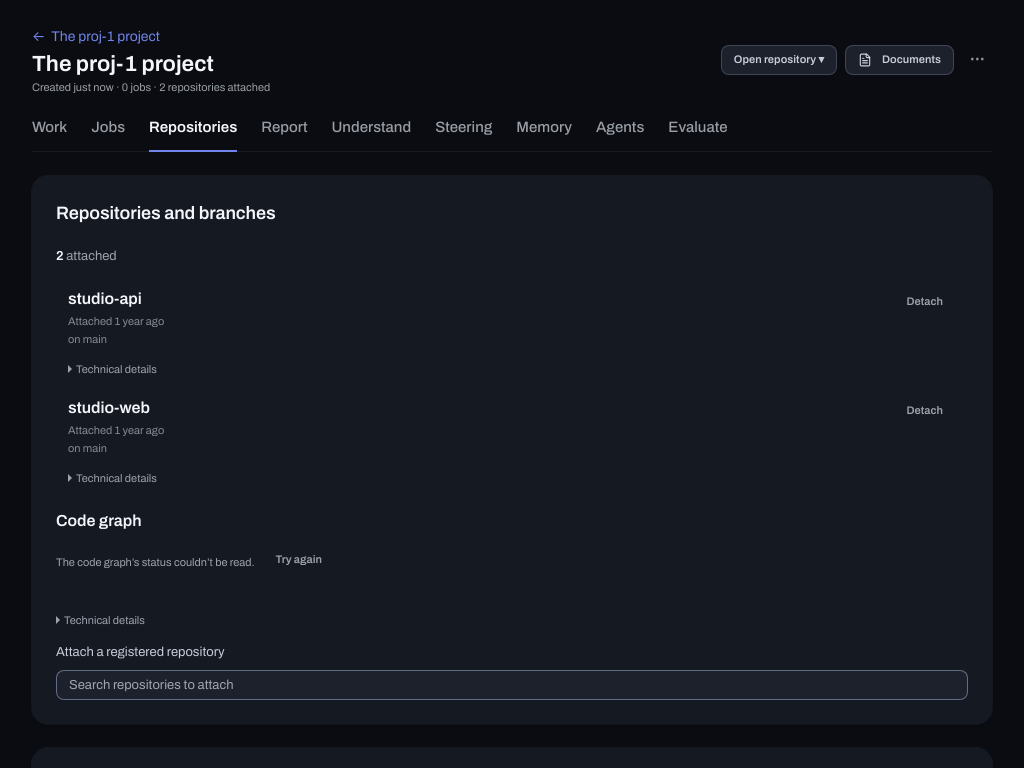
ProjectDesk — Repositories section (studio#207) › Detach asks first: Cancel leaves the member, Confirm DELETEs the member by id and drops the row
The width and height of the screenshot is (1024, 768).
Click the button with test id "project-repo-detach" in the row of "studio-api".
click(925, 302)  # box [894,287,956,317]
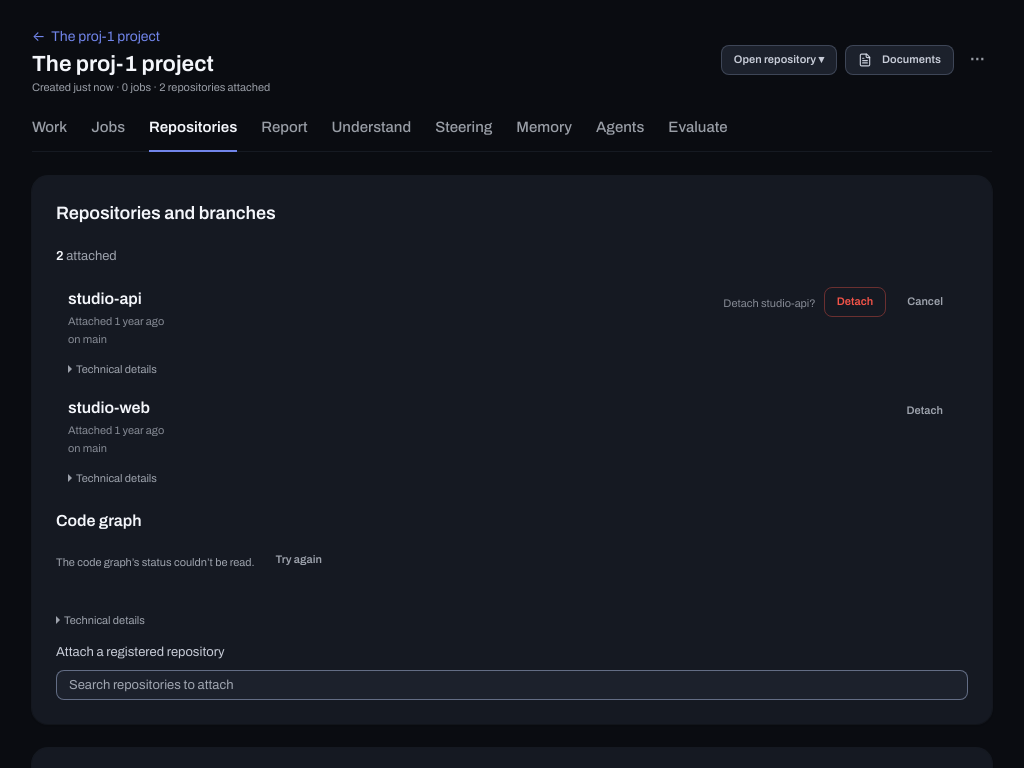
Click the button with test id "project-repo-detach-cancel".
click(925, 302)  # box [894,287,956,317]
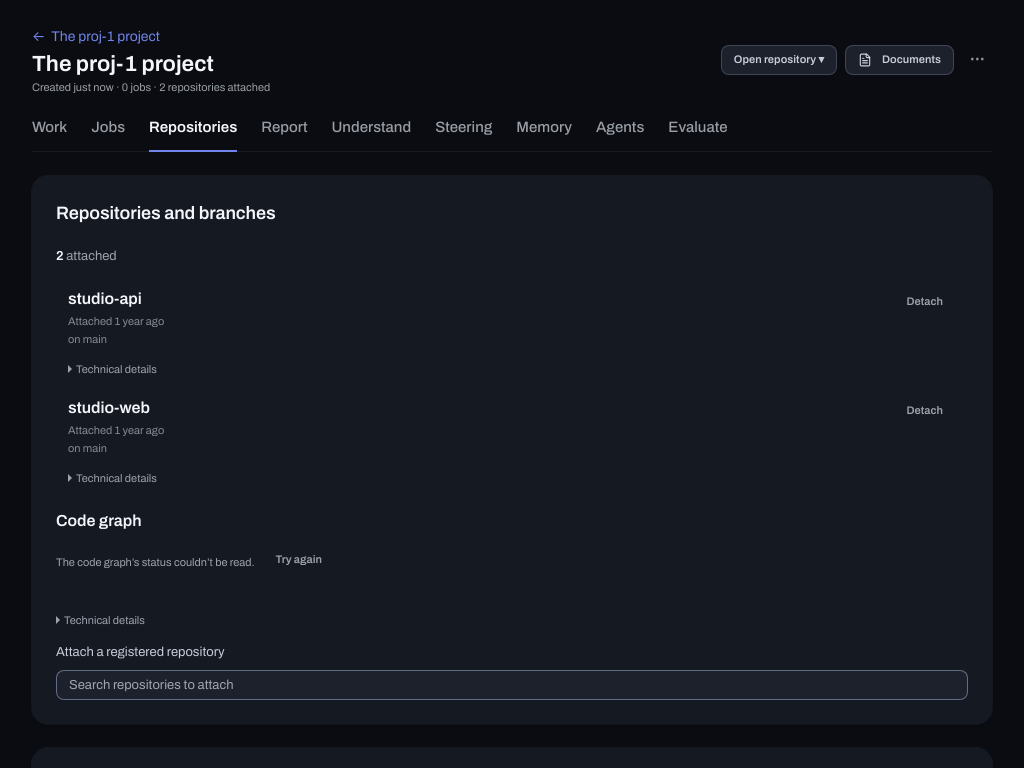
expect the number of elements with test id "project-repo-row" is 2: met, box [56,279,968,388]; [56,388,968,497]
expect the button with test id "project-repo-detach-confirm" is gone: met
Click the button with test id "project-repo-detach" in the row of "studio-api".
click(925, 302)  # box [894,287,956,317]
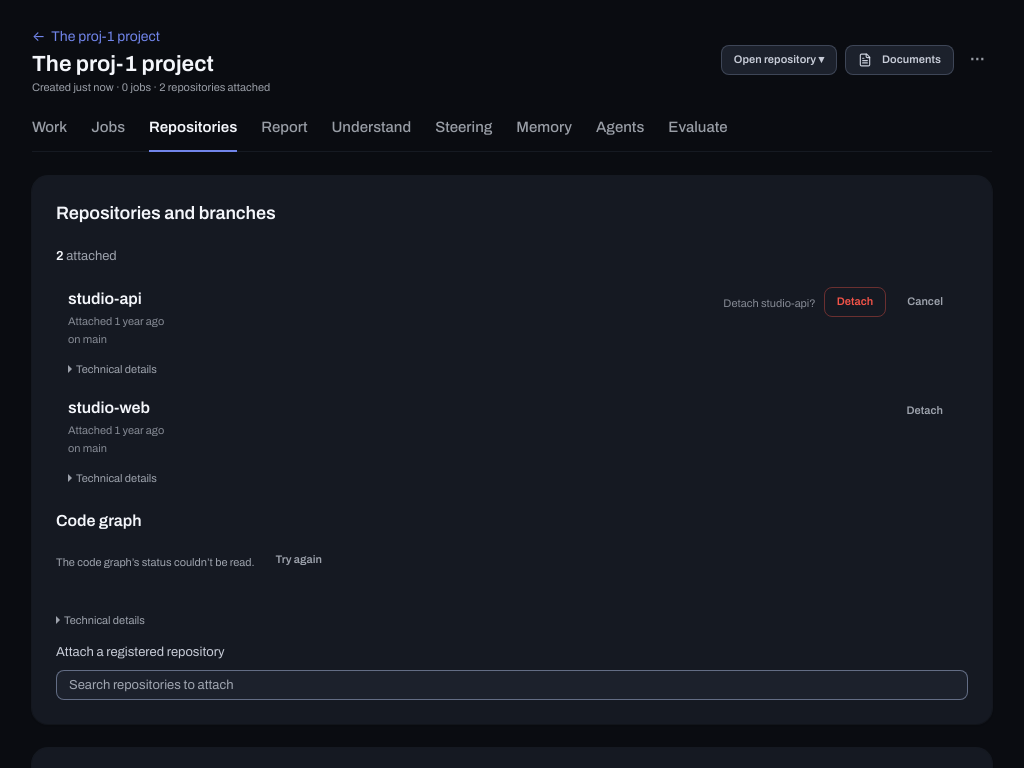
Click the button with test id "project-repo-detach-confirm".
click(855, 302)  # box [824,287,886,317]
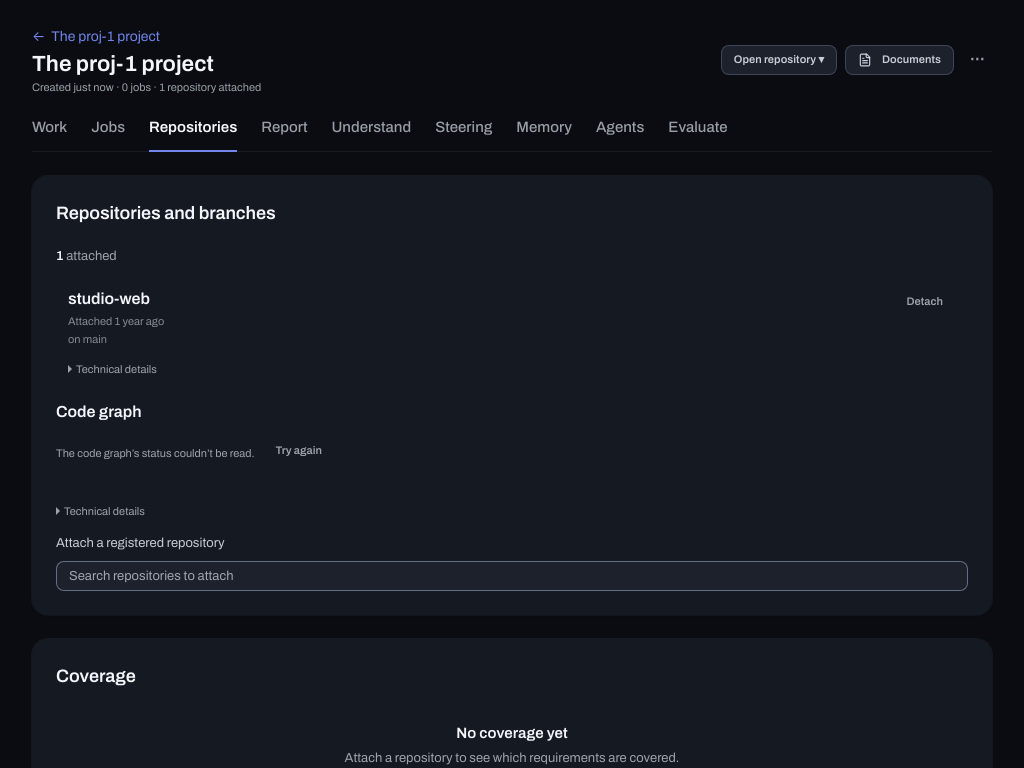
expect the number of elements with test id "project-repo-row" is 1: met, box [56,279,968,388]
